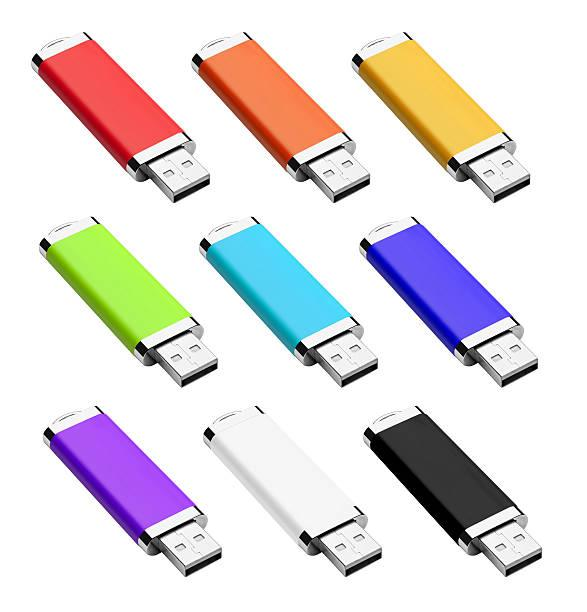USB Flash Drive: (363, 406, 544, 578), (191, 32, 371, 204), (43, 407, 223, 578), (203, 406, 383, 577), (201, 216, 379, 388), (32, 32, 210, 203), (39, 216, 218, 386), (362, 217, 538, 389), (355, 34, 531, 204)
